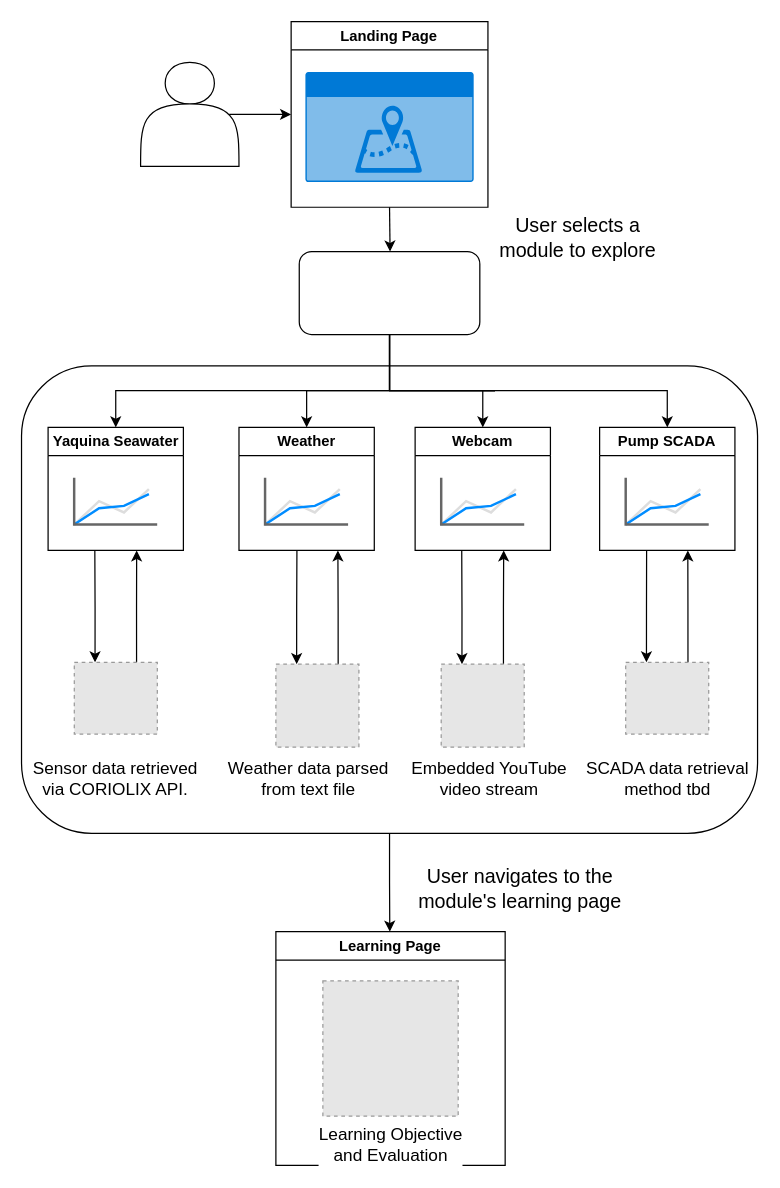
Image size: 780x1188. Some labels were removed from this diagram. Grey dashed boxes stand in for pictures. The shapes that lost their labels are listed below. From the top down, each one's centre as x and y in pixels, then its label:
At (x=189, y=113): "User".
At (x=389, y=126): "Map".
At (x=389, y=292): "React Router".
